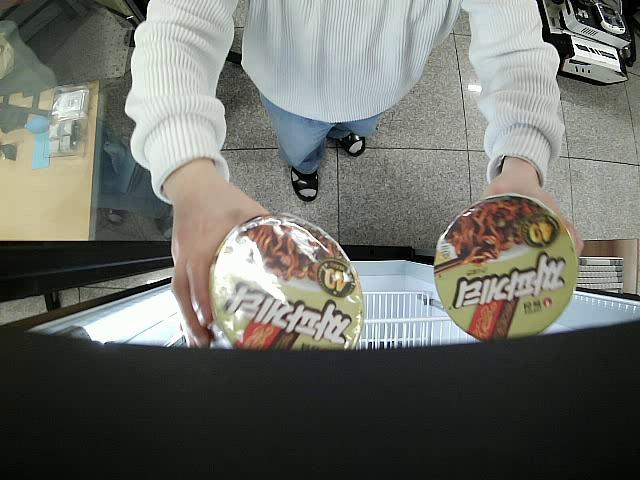00_hand: (157, 164, 269, 351)
03_chapagetti_L: (209, 214, 366, 353), (434, 197, 576, 341)
